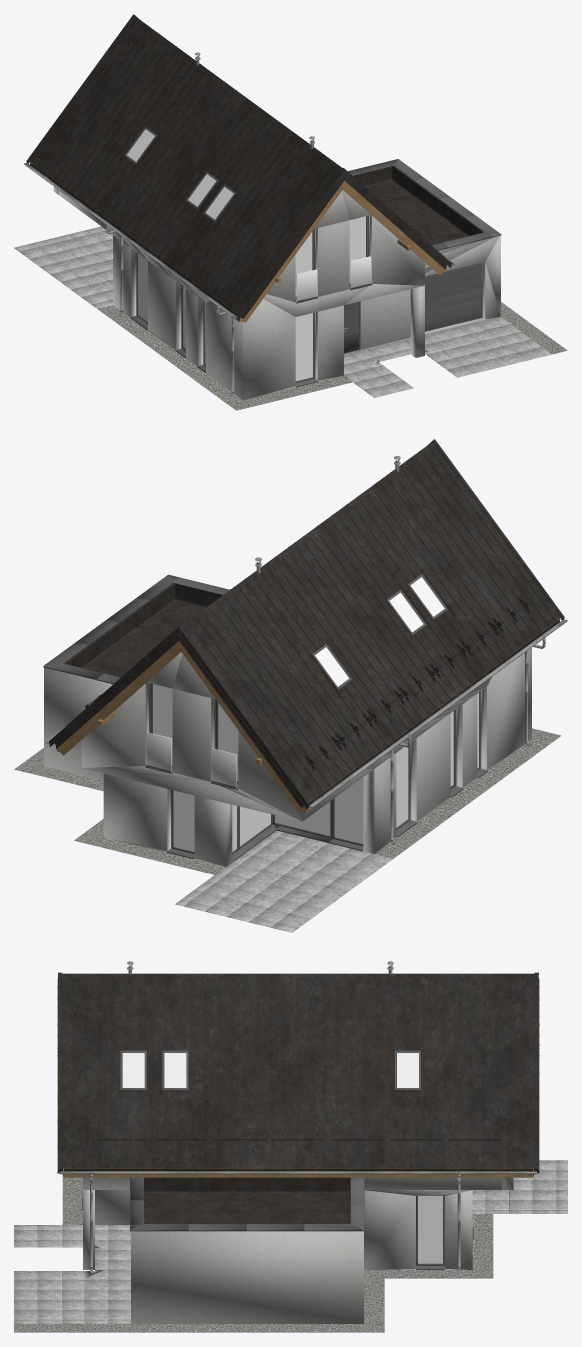
The picture shows the model from 3 angles, top to bottom: view 1: azimuth 30°, elevation 25°; view 2: azimuth 150°, elevation 25°; view 3: azimuth 270°, elevation 25°; orthographic projection. The views are drawn at different scales.
Visible parts, largest first — view 1: __ROOF___ROOF.001, __WALL_FLOOR___WALL_FLOOR, __RAILING___RAILING.001, __GROUND_PAVE___GROUND_PAVE, __GROUND_ROCK___GROUND_ROCK; view 2: __ROOF___ROOF.001, __WALL_FLOOR___WALL_FLOOR, __RAILING___RAILING.001, __GROUND_PAVE___GROUND_PAVE, __GROUND_ROCK___GROUND_ROCK; view 3: __ROOF___ROOF.001, __WALL_FLOOR___WALL_FLOOR, __GROUND_PAVE___GROUND_PAVE, __RAILING___RAILING.001, __GROUND_ROCK___GROUND_ROCK.
Boxes of the visible parts, <box> form: __ROOF___ROOF.001: <box>26,14,484,322</box>; __WALL_FLOOR___WALL_FLOOR: <box>53,186,500,400</box>; __RAILING___RAILING.001: <box>24,52,501,395</box>; __GROUND_PAVE___GROUND_PAVE: <box>14,226,551,397</box>; __GROUND_ROCK___GROUND_ROCK: <box>98,302,567,410</box>; __ROOF___ROOF.001: <box>49,439,564,813</box>; __WALL_FLOOR___WALL_FLOOR: <box>44,647,531,866</box>; __RAILING___RAILING.001: <box>43,456,567,861</box>; __GROUND_PAVE___GROUND_PAVE: <box>175,830,392,932</box>; __GROUND_ROCK___GROUND_ROCK: <box>14,728,561,874</box>; __ROOF___ROOF.001: <box>57,972,539,1223</box>; __WALL_FLOOR___WALL_FLOOR: <box>63,1168,533,1323</box>; __GROUND_PAVE___GROUND_PAVE: <box>14,1160,567,1323</box>; __RAILING___RAILING.001: <box>59,961,537,1272</box>; __GROUND_ROCK___GROUND_ROCK: <box>14,1176,493,1332</box>.
Bounding box in the file's own units: 14.02 × 9.66 × 18.84.
59 materials, 59 textured.
